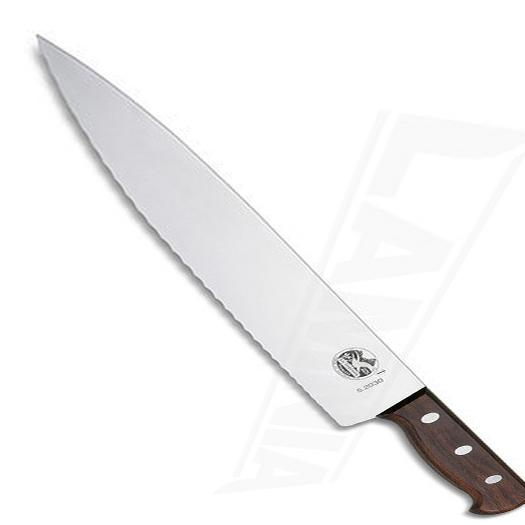knife: (38, 34, 525, 517)
